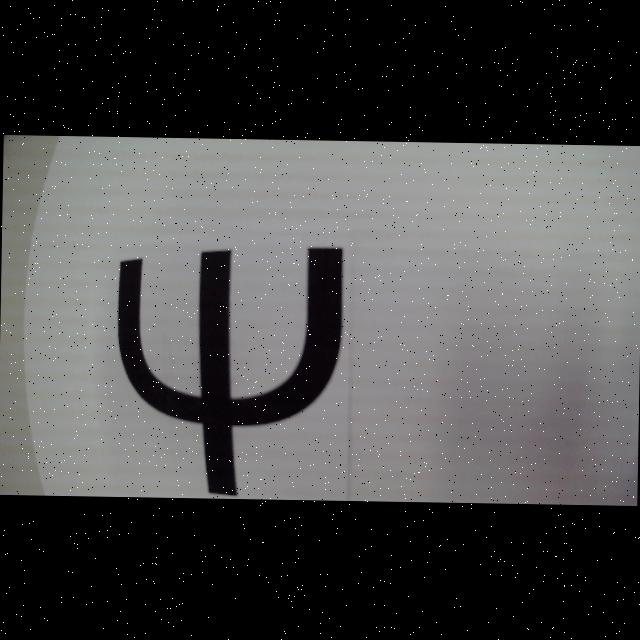PSI: (114, 242, 343, 497)
